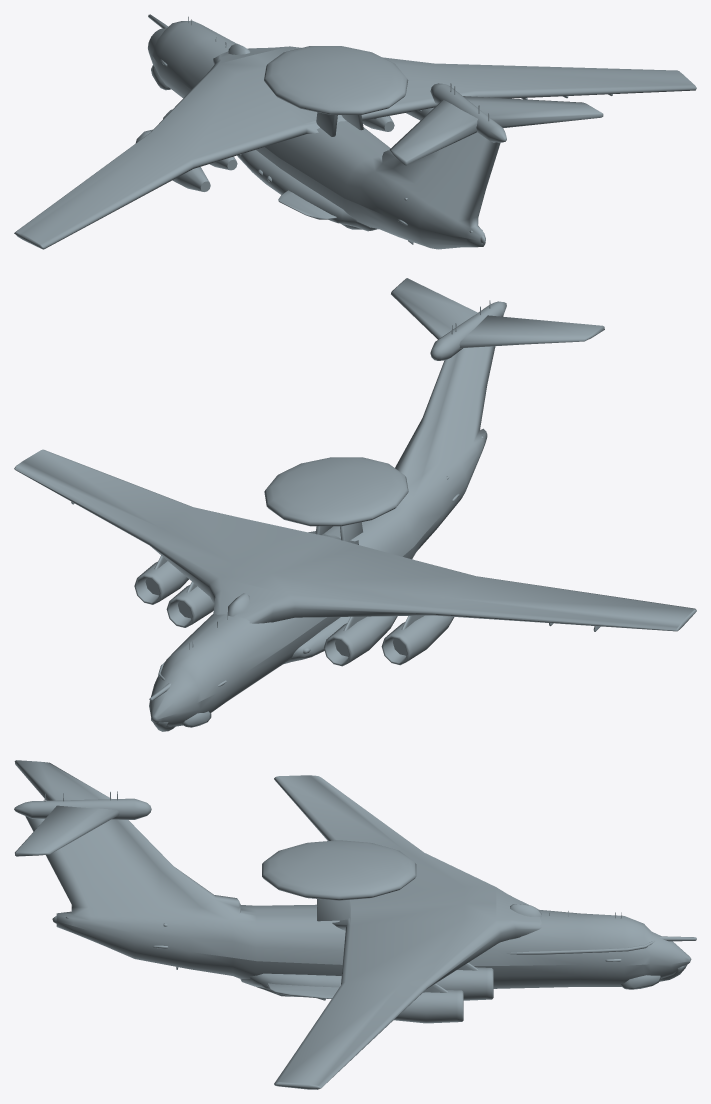
The model's file is model-aircraft-aw-2.glb.
3 renders of one model, top to bottom at view 1: azimuth 30°, elevation 25°; view 2: azimuth 150°, elevation 25°; view 3: azimuth 270°, elevation 25°, orthographic. The views are drawn at different scales.
Size of the model in its own units: 41.32 by 12.55 by 38.35.
